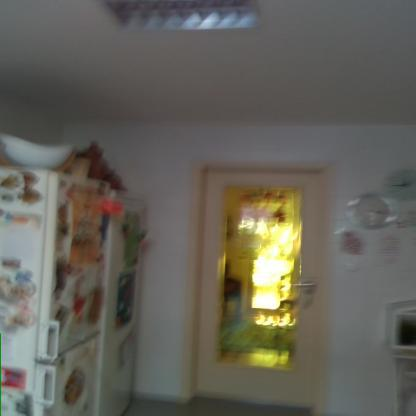door: (204, 173, 322, 415)
lever: (290, 280, 320, 290)
